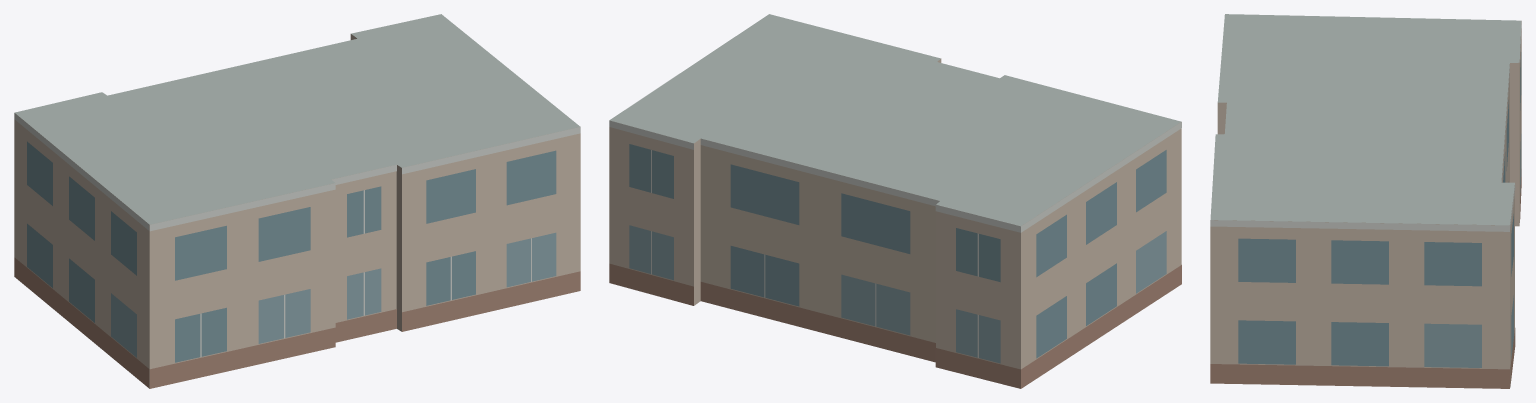
File: survey-upis-32624431.glb
3 renders of one model, left to right at view 1: azimuth 30°, elevation 25°; view 2: azimuth 150°, elevation 25°; view 3: azimuth 270°, elevation 25°, orthographic.
Parts seen in each view (by area): view 1: survey-upis-32624431.tmp; view 2: survey-upis-32624431.tmp; view 3: survey-upis-32624431.tmp.
Boxes of the visible parts, x1,y1,x2,y2 form: survey-upis-32624431.tmp: (14,14,580,388); survey-upis-32624431.tmp: (609,14,1181,388); survey-upis-32624431.tmp: (1210,14,1521,388).
Size of the model in its own units: 16.92 by 6.1 by 10.53.
